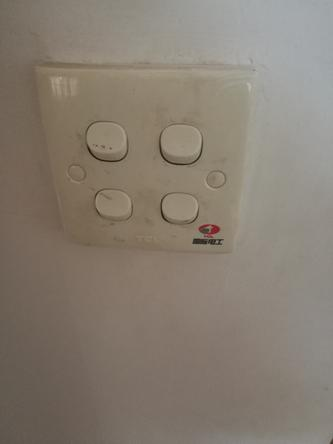switch: (146, 126, 212, 169), (83, 119, 137, 163), (156, 194, 201, 227), (89, 191, 136, 222)
